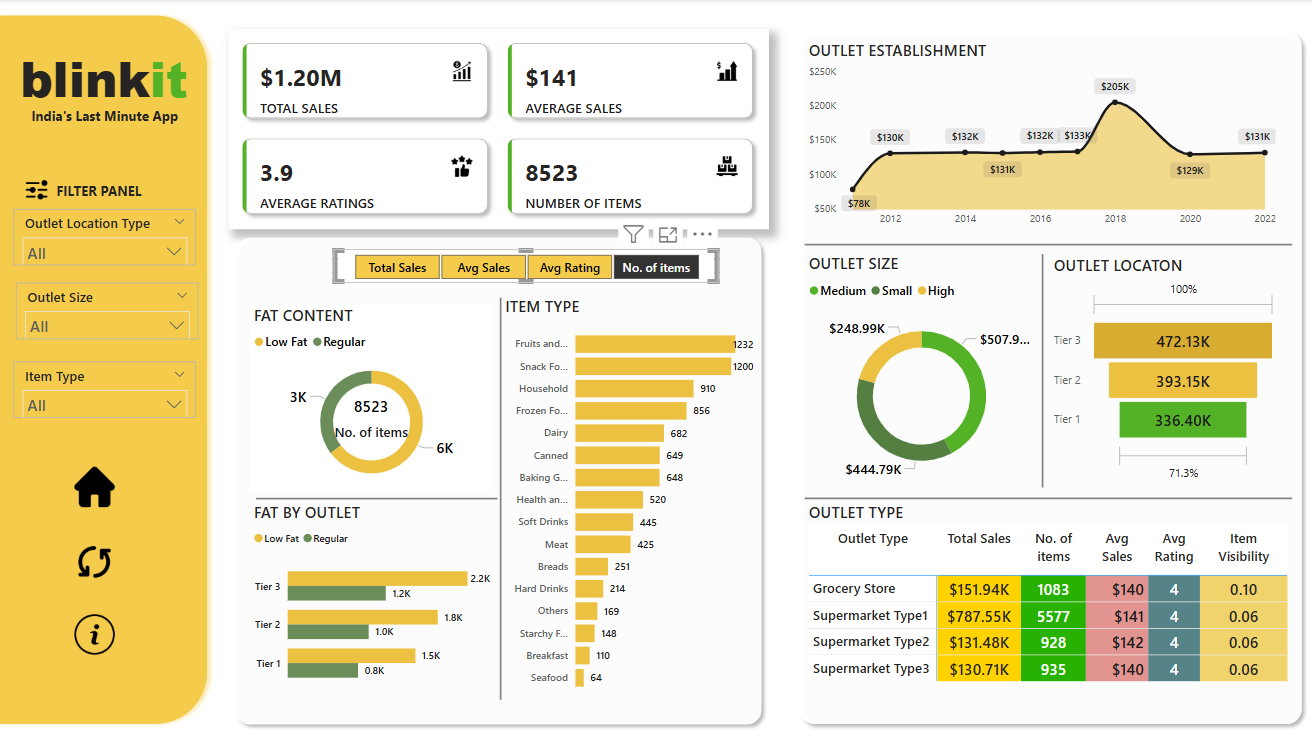

This screenshot's page, from the dashboard's own definition file:
{"tool":"powerbi","page":{"name":"Dashboard","canvas":[1600,900],"ordinal":0},"visuals":[{"type":"shape","box":[0,10,270,873.3],"z":0},{"type":"textbox","box":[30,48.6,232.9,95.7],"z":1000},{"type":"textbox","box":[44.3,125.7,205.7,37.1],"z":2000},{"type":"cardVisual","fields":{"Data":["BlinkIT Grocery Data.Total Sales","BlinkIT Grocery Data.Avg Sales","BlinkIT Grocery Data.Avg Rating","BlinkIT Grocery Data.Number of items"]},"box":[286.7,36.7,651.7,241.7],"z":3000},{"type":"shape","box":[286.7,278.3,651.7,605],"z":4000},{"type":"donutChart","title":"FAT CONTENT","fields":{"Y":["BlinkIT Grocery Data.No. of items"],"Category":["BlinkIT Grocery Data.Item Fat Content"]},"box":[311.7,367.3,294.3,228.6],"z":5000},{"type":"slicer","fields":{"Values":["Metrics.Metrics"]},"box":[413.2,301.6,464.5,40.7],"z":6000},{"type":"card","fields":{"Values":["BlinkIT Grocery Data.No. of items"]},"box":[406.7,456.7,103.3,95],"z":7000},{"type":"clusteredBarChart","title":"FAT BY OUTLET","fields":{"Y":["BlinkIT Grocery Data.No. of items"],"Category":["BlinkIT Grocery Data.Outlet Location Type"],"Series":["BlinkIT Grocery Data.Item Fat Content"]},"box":[311.7,606.7,295,238.3],"z":8000},{"type":"shape","box":[320,580,291.4,44.3],"z":9000},{"type":"shape","box":[595,360,38.3,485],"z":10000},{"type":"barChart","title":"ITEM TYPE","fields":{"Y":["BlinkIT Grocery Data.No. of items"],"Category":["BlinkIT Grocery Data.Item Type"]},"box":[615,356.7,310,488.3],"z":11000},{"type":"shape","box":[966.7,30,623.3,853.3],"z":12000},{"type":"lineChart","title":"OUTLET ESTABLISHMENT","fields":{"Category":["BlinkIT Grocery Data.Outlet Establishment Year"],"Y":["BlinkIT Grocery Data.Total Sales"]},"box":[981.7,48.3,573.3,235],"z":13000},{"type":"shape","box":[981.7,279,588.1,34.7],"z":14000},{"type":"donutChart","title":"OUTLET SIZE","fields":{"Y":["BlinkIT Grocery Data.Total Sales"],"Category":["BlinkIT Grocery Data.Outlet Size"]},"box":[981.7,306.1,282,289.5],"z":15000},{"type":"shape","box":[1248.3,308.3,40,281.7],"z":16000},{"type":"funnel","title":"OUTLET LOCATON","fields":{"Y":["Sum(BlinkIT Grocery Data.Sales)"],"Category":["BlinkIT Grocery Data.Outlet Location Type"]},"box":[1276.7,308.3,278.3,280],"z":17000},{"type":"shape","box":[981.7,585.1,588.1,34.7],"z":18000},{"type":"pivotTable","title":"OUTLET TYPE","fields":{"Rows":["BlinkIT Grocery Data.Outlet Type"],"Values":["BlinkIT Grocery Data.Total Sales","BlinkIT Grocery Data.No. of items","BlinkIT Grocery Data.Avg Sales","BlinkIT Grocery Data.Avg Rating","Sum(BlinkIT Grocery Data.Item Visibility)"]},"box":[981.7,606.7,588.3,238.3],"z":19000},{"type":"slicer","fields":{"Values":["BlinkIT Grocery Data.Outlet Location Type"]},"box":[26.7,253.3,220,68.3],"z":20000},{"type":"slicer","fields":{"Values":["BlinkIT Grocery Data.Outlet Size"]},"box":[30,341.7,220,68.3],"z":21000},{"type":"slicer","fields":{"Values":["BlinkIT Grocery Data.Item Type"]},"box":[26.7,436.7,220,68.3],"z":22000},{"type":"textbox","box":[74.2,215.7,123.7,37.7],"z":23000},{"type":"image","box":[95,559.5,60.3,58.8],"z":24000},{"type":"image","box":[36.5,206.6,37.7,46.7],"z":25000},{"type":"image","box":[95,650,60.3,58.8],"z":26000},{"type":"image","box":[95,737.4,60.3,58.8],"z":28000}]}

Visuals, with their boxes in screenshot pixels (x1, y1, x2, y2), scaled from the page's 1600x900 canvas onto the 1312x737 screenshot:
shape: l=0, t=8, r=221, b=723
textbox: l=25, t=40, r=216, b=118
textbox: l=36, t=103, r=205, b=133
cardVisual - BlinkIT Grocery Data.Total Sales x BlinkIT Grocery Data.Avg Sales: l=235, t=30, r=769, b=228
shape: l=235, t=228, r=769, b=723
"FAT CONTENT" donutChart: l=256, t=301, r=497, b=488
slicer - Metrics.Metrics: l=339, t=247, r=720, b=280
card - BlinkIT Grocery Data.No. of items: l=333, t=374, r=418, b=452
"FAT BY OUTLET" clusteredBarChart: l=256, t=497, r=497, b=692
shape: l=262, t=475, r=501, b=511
shape: l=488, t=295, r=519, b=692
"ITEM TYPE" barChart: l=504, t=292, r=758, b=692
shape: l=793, t=25, r=1304, b=723
"OUTLET ESTABLISHMENT" lineChart: l=805, t=40, r=1275, b=232
shape: l=805, t=228, r=1287, b=257
"OUTLET SIZE" donutChart: l=805, t=251, r=1036, b=488
shape: l=1024, t=252, r=1056, b=483
"OUTLET LOCATON" funnel: l=1047, t=252, r=1275, b=482
shape: l=805, t=479, r=1287, b=508
"OUTLET TYPE" pivotTable: l=805, t=497, r=1287, b=692
slicer - BlinkIT Grocery Data.Outlet Location Type: l=22, t=207, r=202, b=263
slicer - BlinkIT Grocery Data.Outlet Size: l=25, t=280, r=205, b=336
slicer - BlinkIT Grocery Data.Item Type: l=22, t=358, r=202, b=414
textbox: l=61, t=177, r=162, b=208
image: l=78, t=458, r=127, b=506
image: l=30, t=169, r=61, b=207
image: l=78, t=532, r=127, b=580
image: l=78, t=604, r=127, b=652
